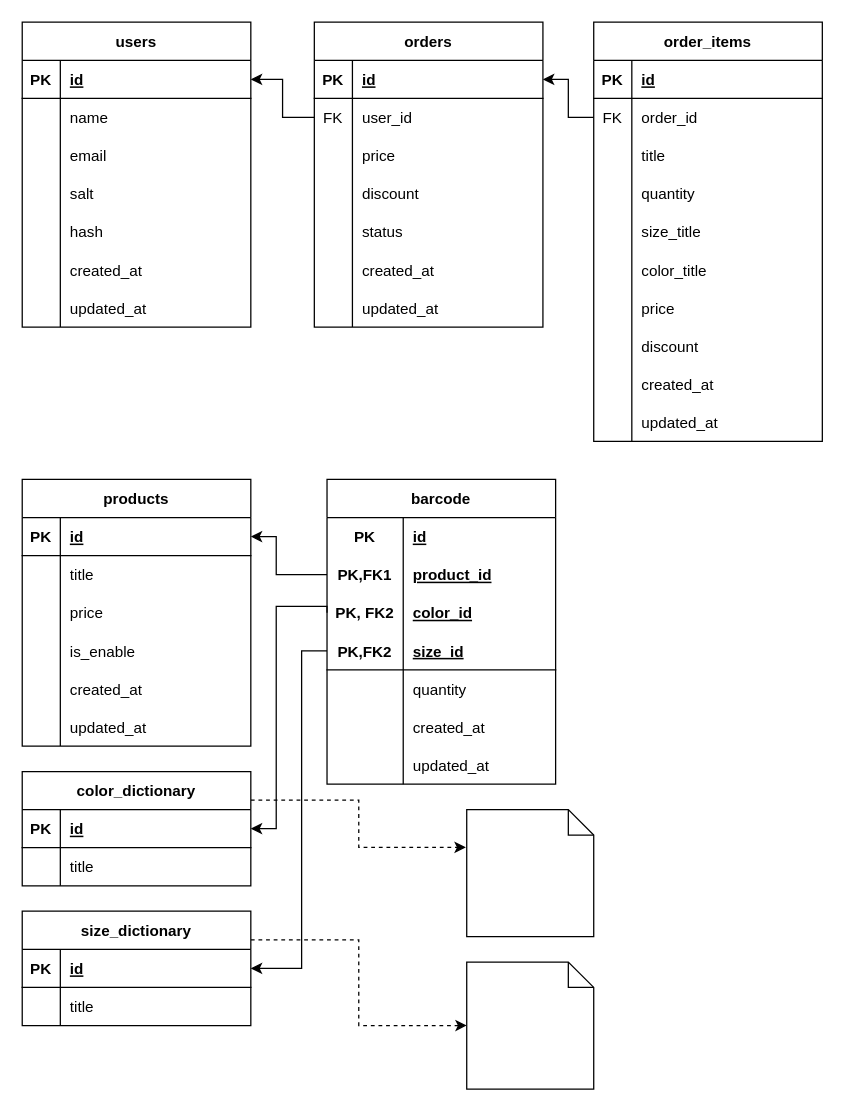
Image size: 845x1111. Some labels were removed from this diagram. The shapes that lost their labels are listed below. From the top down, each one's centre as x and y in pixels, then its label:
At (x=529, y=872): "Пример данных: красный, зеленый, желтый".
At (x=529, y=1025): "Пример данных: 38, 39, 40, 41, 42, 43".
